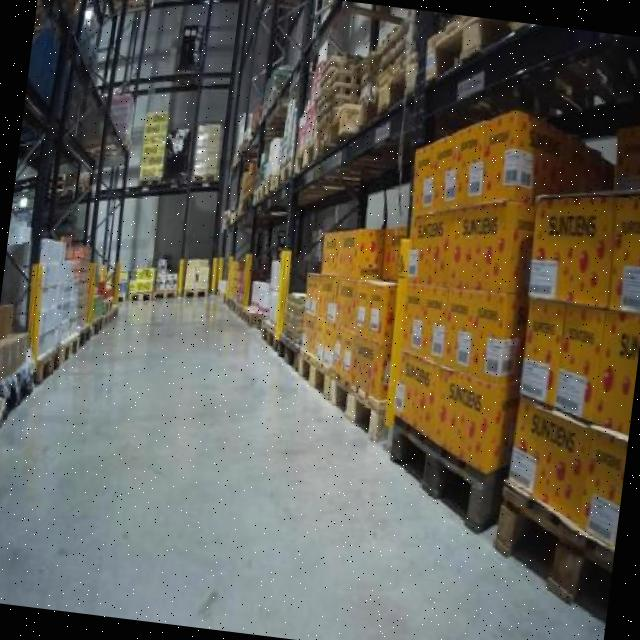pallet: (479, 470, 614, 640), (383, 402, 504, 553), (321, 368, 392, 456), (294, 340, 338, 410), (143, 282, 187, 308), (121, 286, 158, 310), (178, 278, 211, 303)
